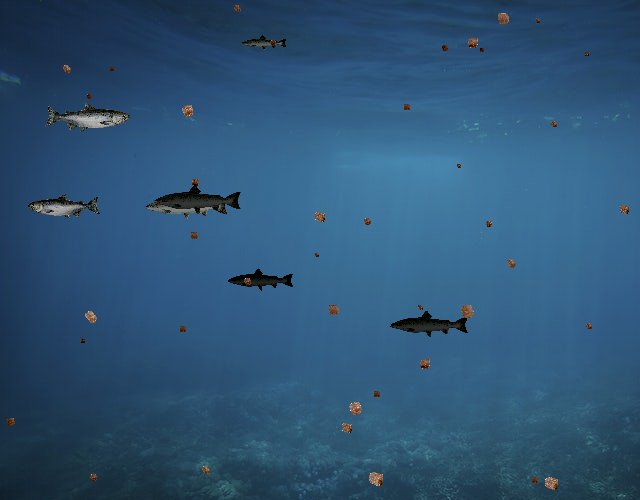Fish: (153, 184, 243, 216), (144, 190, 230, 221), (44, 102, 130, 133), (389, 310, 470, 339), (29, 193, 102, 219), (227, 268, 295, 292), (242, 34, 289, 51)
Pellet: (491, 6, 515, 30), (308, 206, 331, 229), (501, 253, 521, 273), (57, 60, 76, 79), (187, 174, 204, 191), (229, 1, 245, 17), (369, 387, 384, 401), (83, 90, 96, 103), (454, 160, 464, 170)
